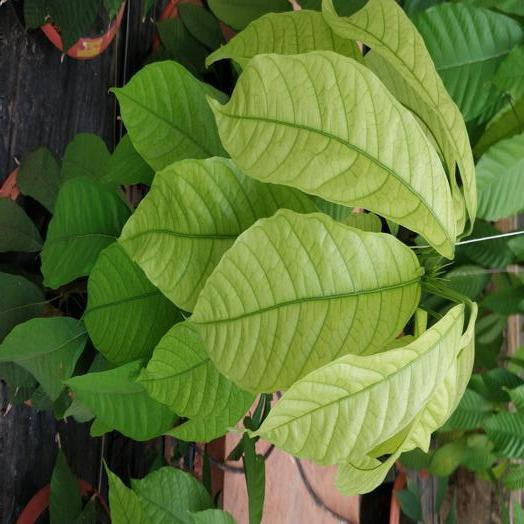Iron: (209, 51, 454, 257), (191, 209, 423, 392), (322, 0, 476, 233), (258, 306, 463, 463)
